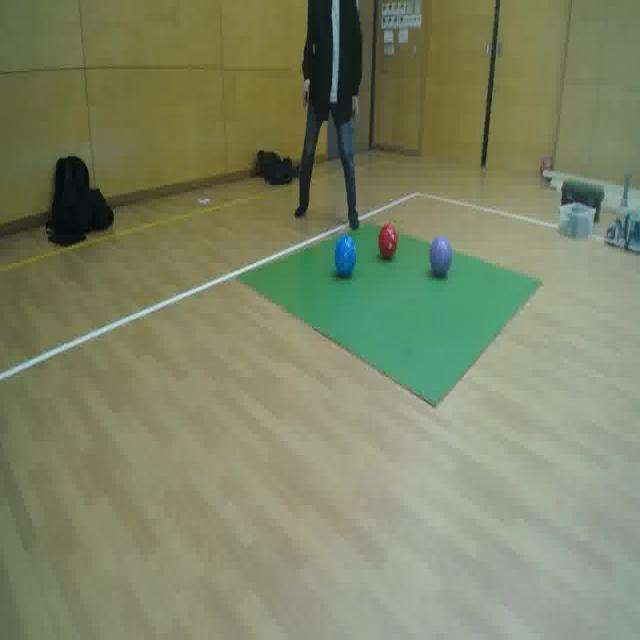blue_ball: (334, 234, 356, 276)
purple_ball: (429, 236, 451, 274)
red_ball: (377, 222, 397, 257)
